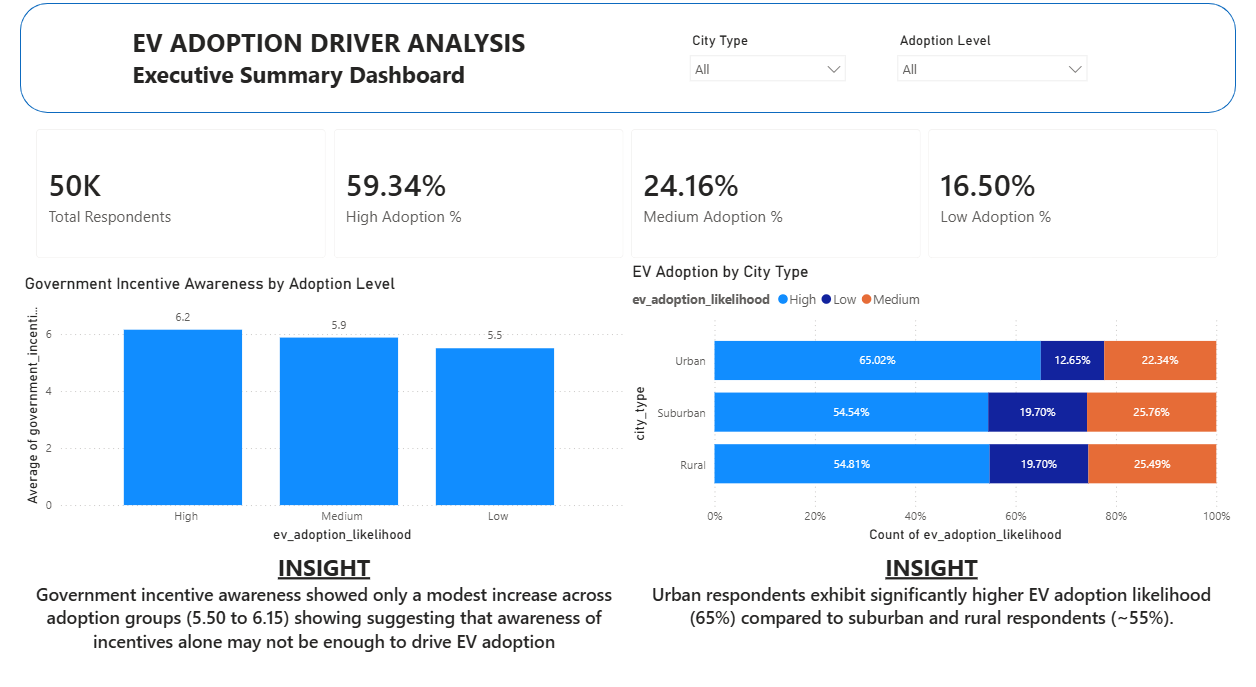

Layout of this report page (visuals, bound fields, positions):
{"tool":"powerbi","page":{"name":"Executive Summary","canvas":[1280,720],"ordinal":0},"visuals":[{"type":"cardVisual","fields":{"Data":["ev_adoption.Total Respondents","ev_adoption.High Adoption %","ev_adoption.Medium Adoption %","ev_adoption.Low Adoption %"]},"box":[0,115.7,1280,170],"z":0},{"type":"shape","box":[0,0,1280,115.7],"z":1000},{"type":"textbox","box":[112.9,18.6,435.7,80],"z":2000},{"type":"slicer","fields":{"Values":["ev_adoption.city_type"]},"box":[694.3,25.7,184.3,64.3],"z":3000},{"type":"slicer","fields":{"Values":["ev_adoption.ev_adoption_likelihood"]},"box":[912.9,25.7,220,72.9],"z":4000},{"type":"hundredPercentStackedBarChart","title":"EV Adoption by City Type","fields":{"Category":["ev_adoption.city_type"],"Y":["CountNonNull(ev_adoption.ev_adoption_likelihood)"],"Series":["ev_adoption.ev_adoption_likelihood"]},"box":[640,272.9,640,300],"z":6000},{"type":"textbox","box":[0,572.9,640,147.1],"z":7000},{"type":"textbox","box":[640,572.9,640,147.1],"z":7001},{"type":"clusteredColumnChart","title":"Government Incentive Awareness by Adoption Level","fields":{"Category":["ev_adoption.ev_adoption_likelihood"],"Y":["Avg(ev_adoption.government_incentive_awareness)"]},"box":[0,286,640,287],"z":7002}]}

Visuals, with their boxes in screenshot pixels (x1, y1, x2, y2), scaled from the page's 1280x720 canvas onto the 1256x687 screenshot:
cardVisual - ev_adoption.Total Respondents x ev_adoption.High Adoption %: <bbox>0, 110, 1255, 273</bbox>
shape: <bbox>0, 0, 1255, 110</bbox>
textbox: <bbox>111, 18, 538, 94</bbox>
slicer - ev_adoption.city_type: <bbox>681, 25, 862, 86</bbox>
slicer - ev_adoption.ev_adoption_likelihood: <bbox>896, 25, 1112, 94</bbox>
"EV Adoption by City Type" hundredPercentStackedBarChart: <bbox>628, 260, 1255, 547</bbox>
textbox: <bbox>0, 547, 628, 686</bbox>
textbox: <bbox>628, 547, 1255, 686</bbox>
"Government Incentive Awareness by Adoption Level" clusteredColumnChart: <bbox>0, 273, 628, 547</bbox>
